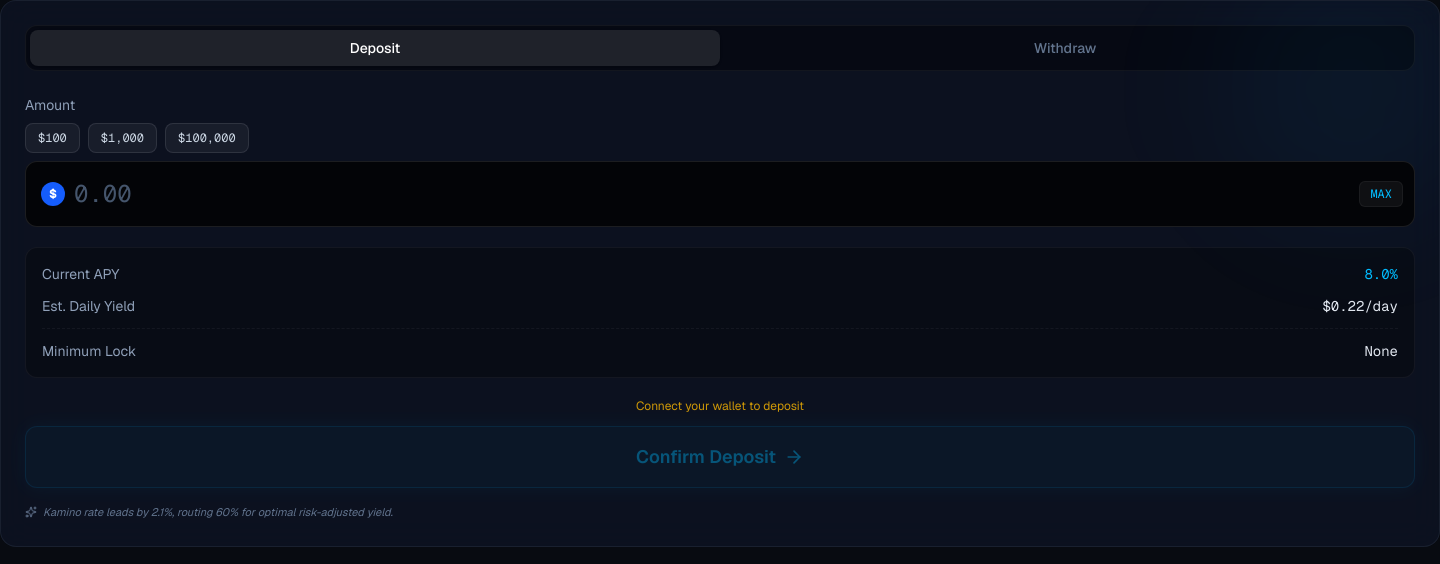
DepositForm — preset amount buttons › click behaviour › clicking a preset overwrites a previously selected preset value
Click the button "$100".
click(52, 138)  # box [25, 123, 80, 153]
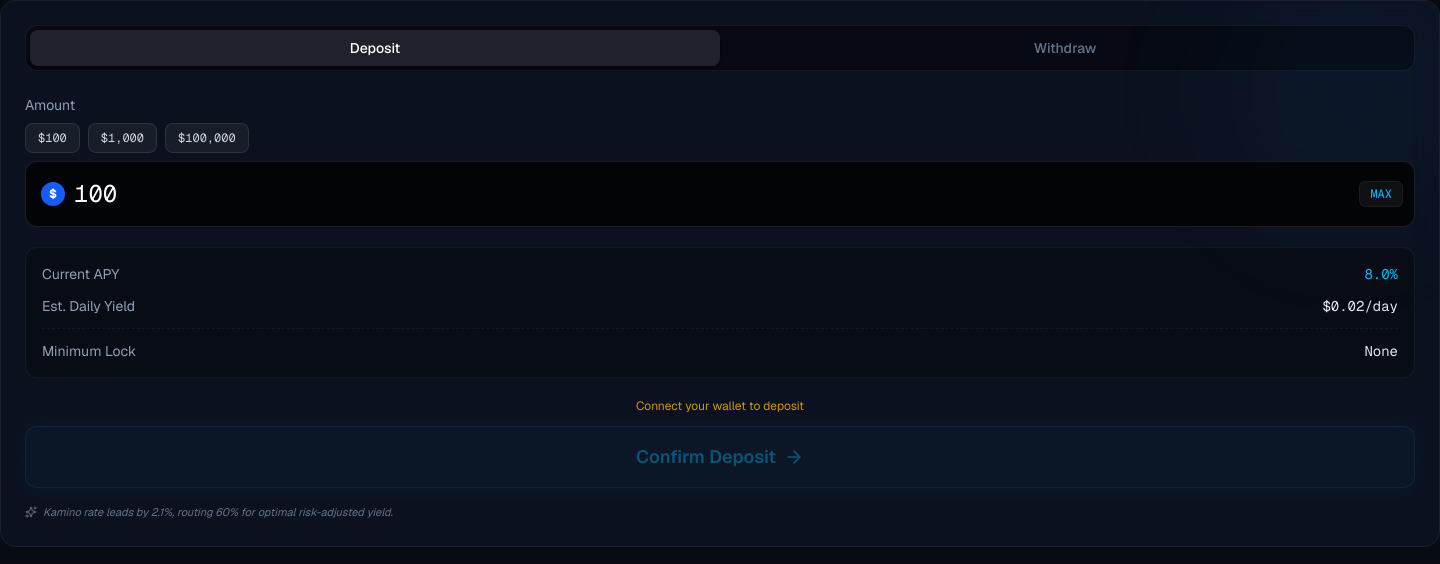
Click the button "$1,000".
click(122, 138)  # box [88, 123, 157, 153]
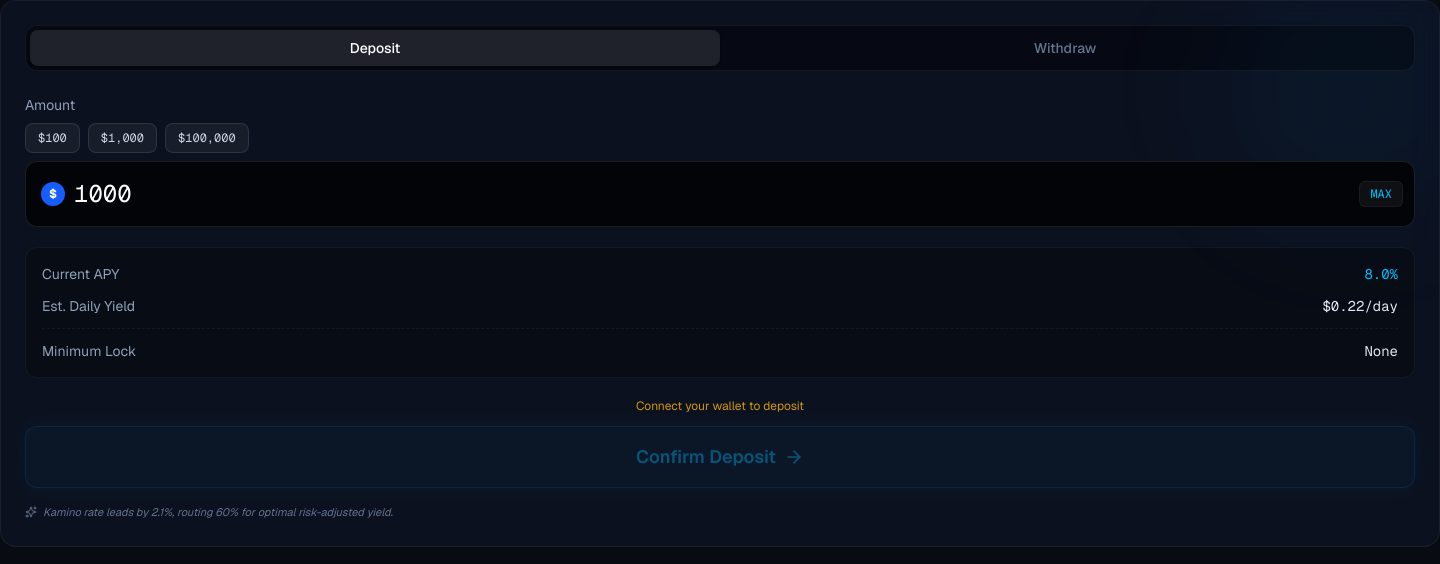
Expected: the number field with placeholder "0.00" holds "1000", [25, 161, 1415, 227]
